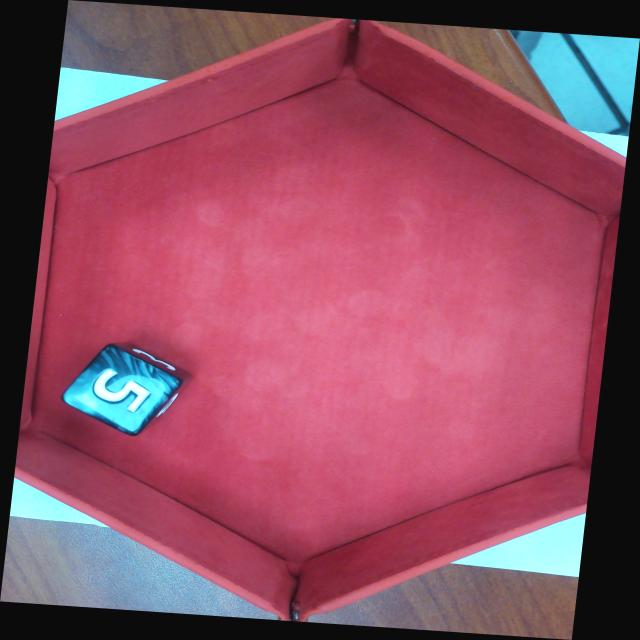dice: (66, 343, 183, 436)
